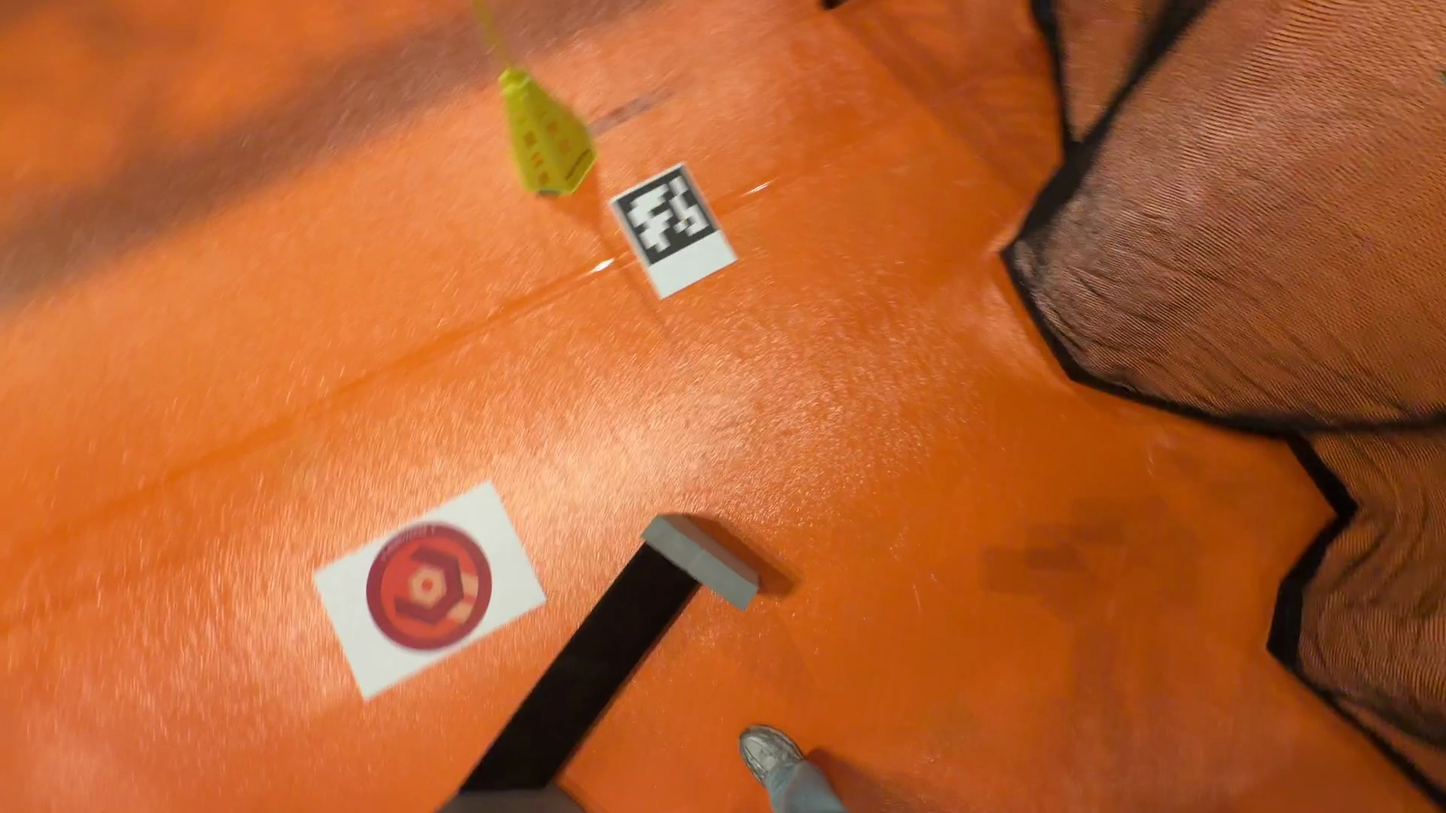landing_pad: (365, 523, 494, 656)
